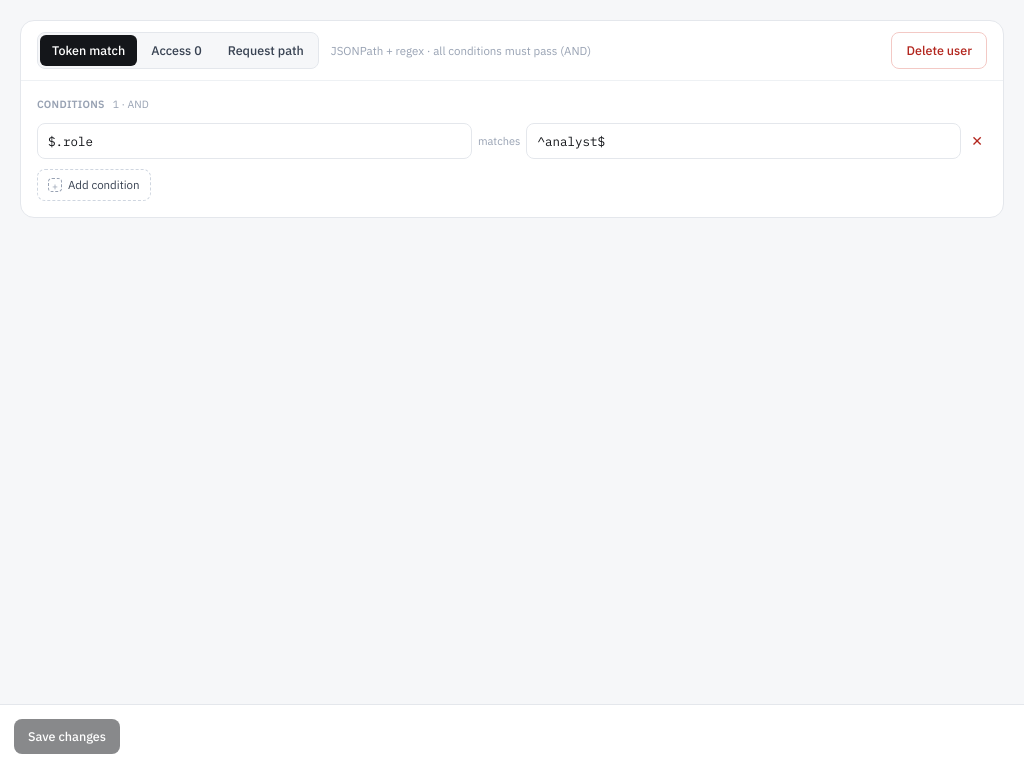
Test case: UserDetail › Save goes back to disabled after a successful save of an existing user -- the panel isn't remounted since the selection name doesn't change
The width and height of the screenshot is (1024, 768).
Replace the text in the field named "Condition 1 regex" with "^lead$" at [744, 141], box [526, 122, 961, 159]
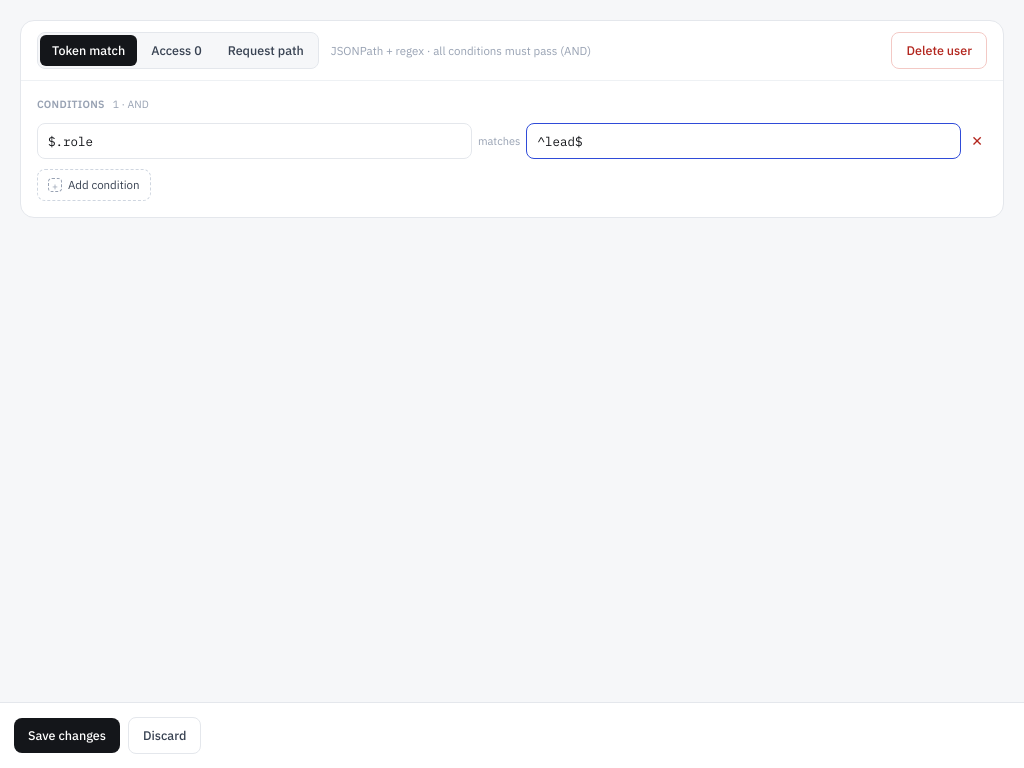
Result: the button "Save changes" is enabled
Click the button "Save changes" at [67, 736], box [14, 718, 120, 753]
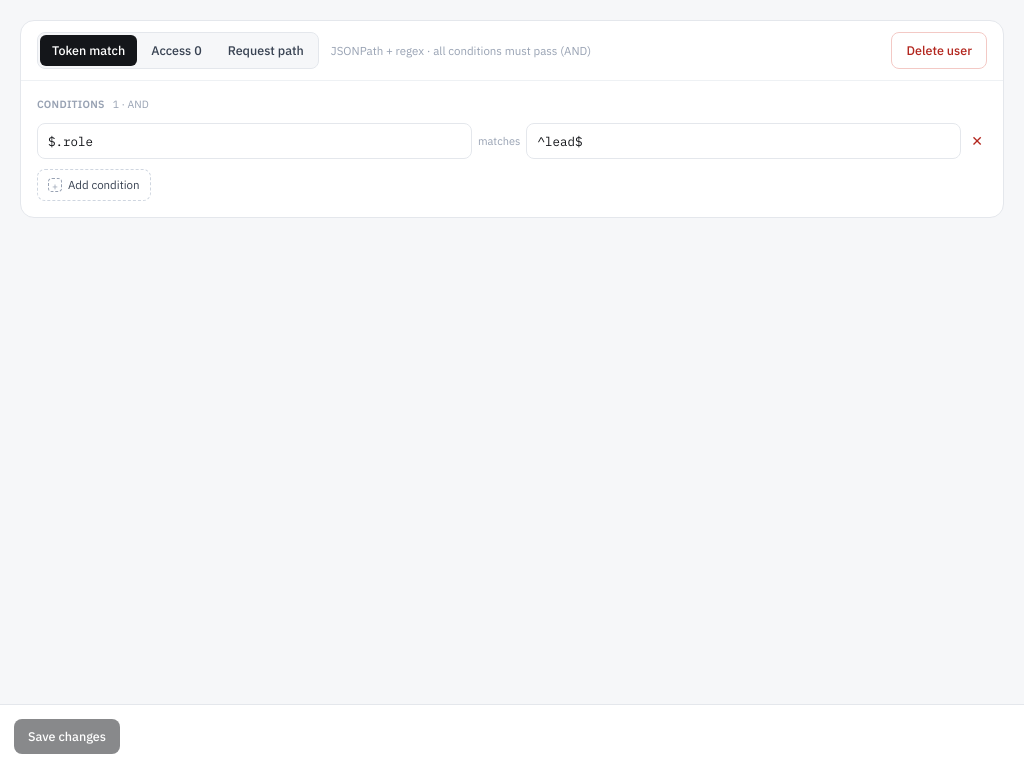
Result: the button "Save changes" is disabled at [14, 719, 120, 754]
Result: the button "Discard" is gone
